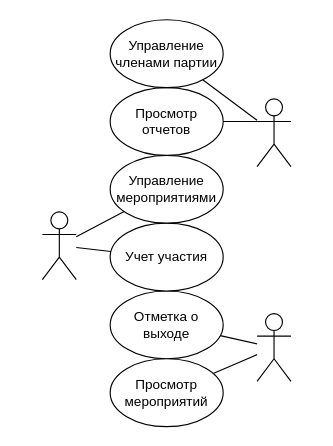
The diagram is 333 pixels wide and 446 high, and some of its shapes have lost their labels. The shapes that lost their labels are listed below. From the top down, each one's centre as x and y in pixels, then its label:
At point (273, 132): "Секретарь".
At point (58, 245): "Член партии".
At point (273, 346): "Организатор".
